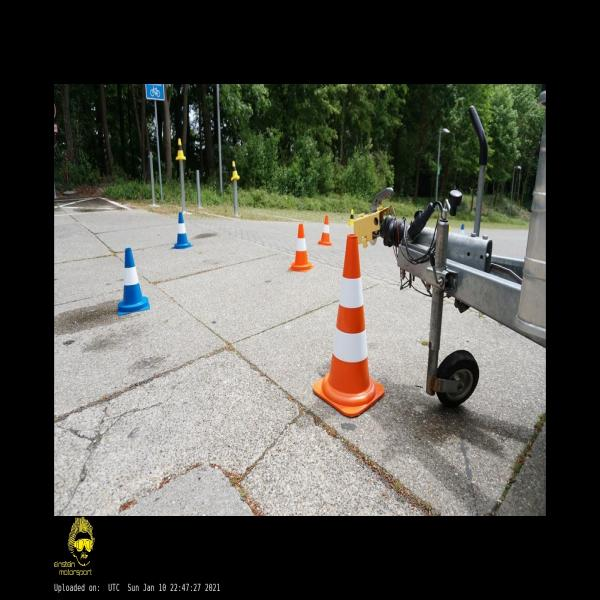blue_cone: (116, 248, 150, 316), (172, 212, 193, 249)
large_orange_cone: (312, 234, 384, 416)
orange_cone: (288, 222, 314, 272), (317, 215, 332, 245)
yellow_cone: (175, 138, 186, 160), (230, 160, 240, 180), (348, 209, 354, 225)
